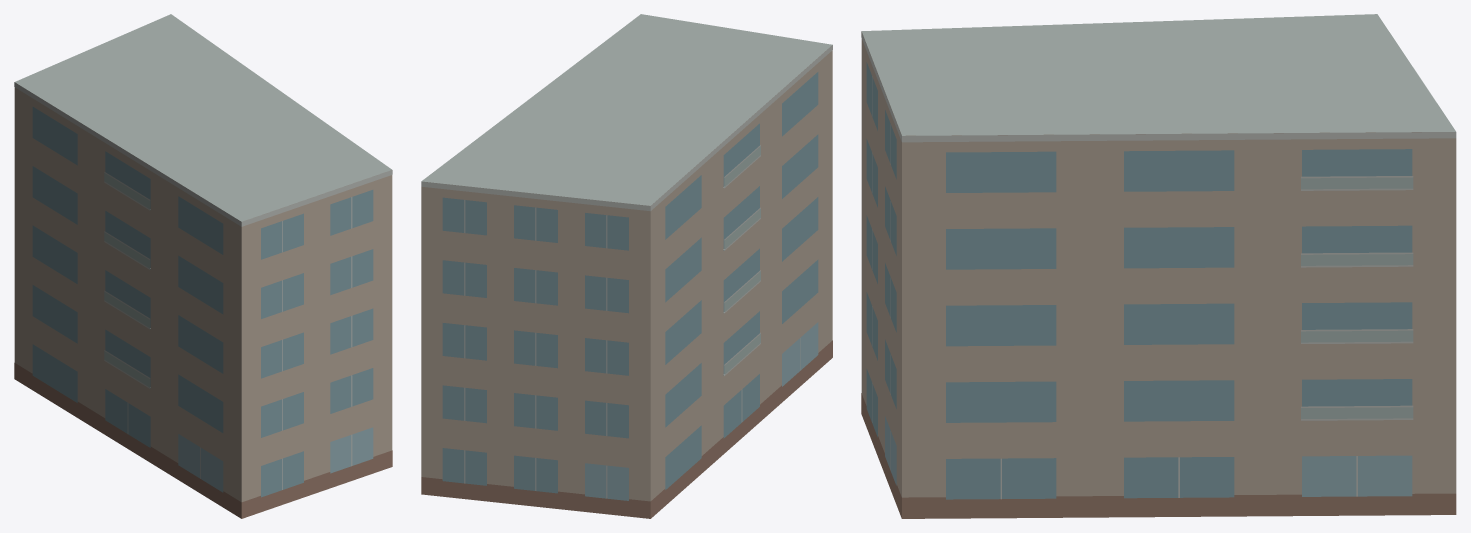
File: survey-upis-33021453.glb
3 renders of one model, left to right at view 1: azimuth 30°, elevation 25°; view 2: azimuth 150°, elevation 25°; view 3: azimuth 270°, elevation 25°, orthographic. The views are drawn at different scales.
Parts seen in each view (by area): view 1: survey-upis-33021453.tmp; view 2: survey-upis-33021453.tmp; view 3: survey-upis-33021453.tmp.
Boxes of the visible parts, <box> form: survey-upis-33021453.tmp: <box>14,14,392,518</box>; survey-upis-33021453.tmp: <box>421,14,832,518</box>; survey-upis-33021453.tmp: <box>861,14,1456,518</box>.
Bounding box in the file's own units: 9.83 × 14.4 × 20.27.
